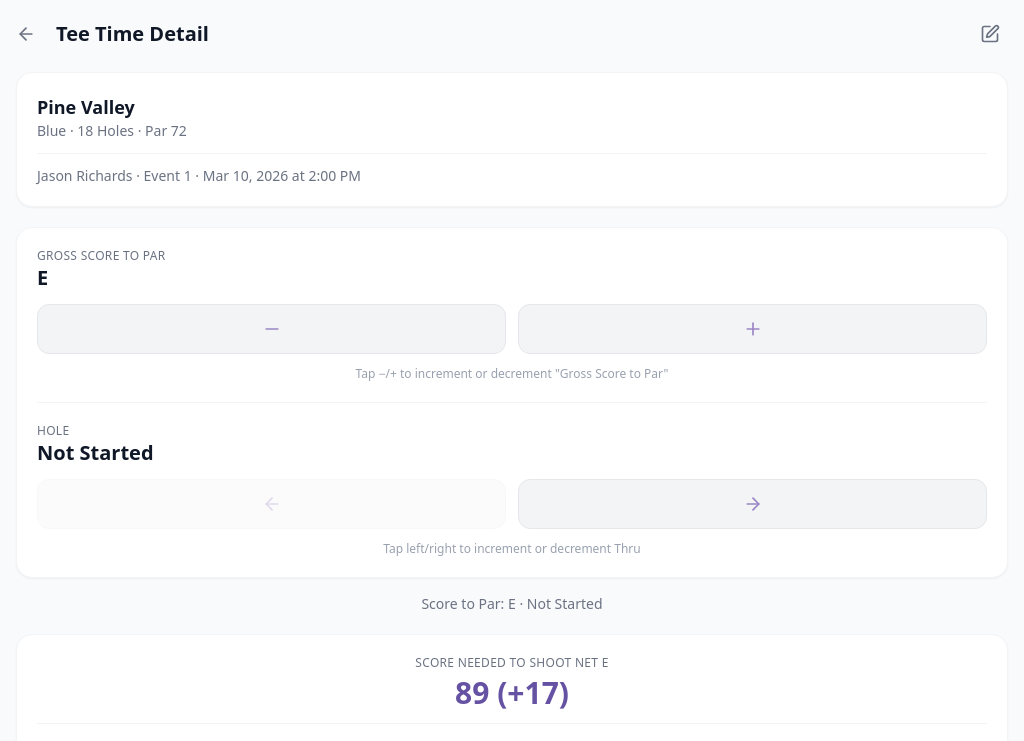
Test: Score Detail Page - Course/Tee Change › closes course picker via X button
Expected: the text "Pine Valley" is shown, [37,95,135,119]
Step 1. Click the 2nd button → point(990, 34), box [972,16,1008,52]
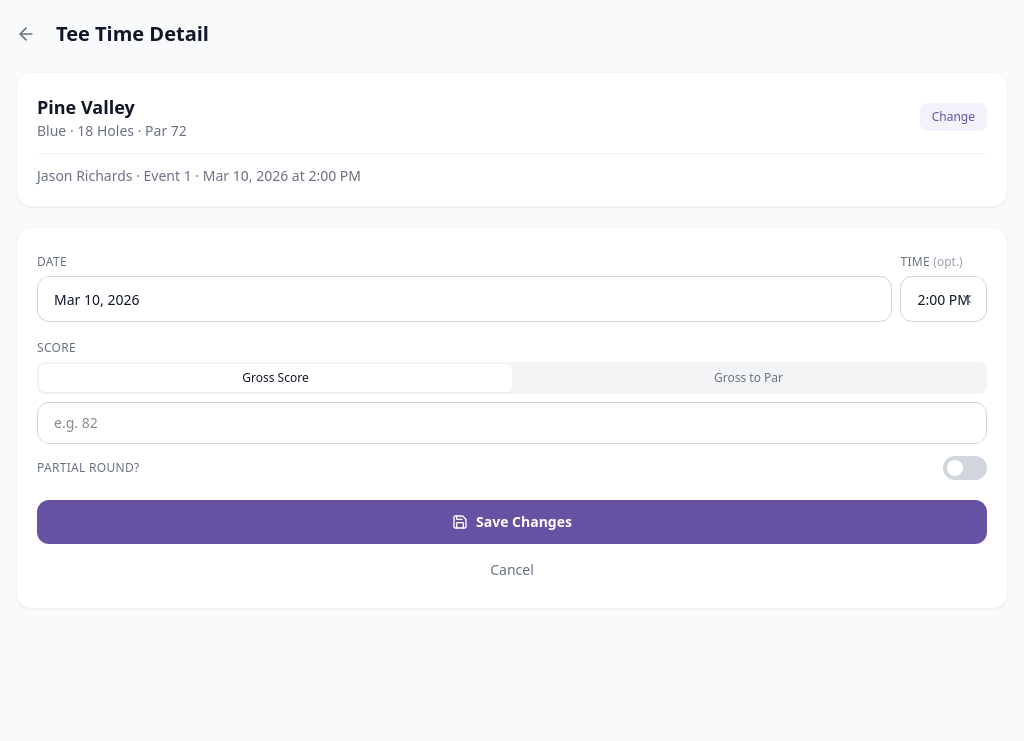
Step 2. Click the button "Change" → point(953, 117), box [920,103,987,131]
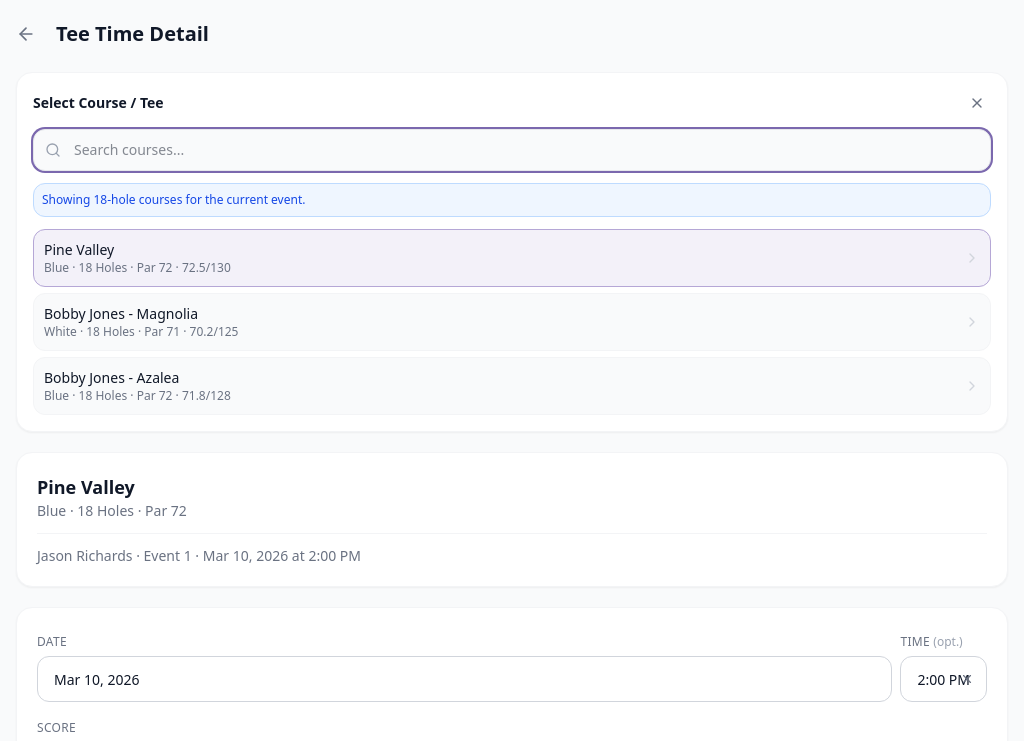
Now the heading "Select Course / Tee" is shown, box [33,93,164,113]
Step 3. Click the button without text in the row of "Select Course / Tee" → point(977, 103), box [963,89,991,117]
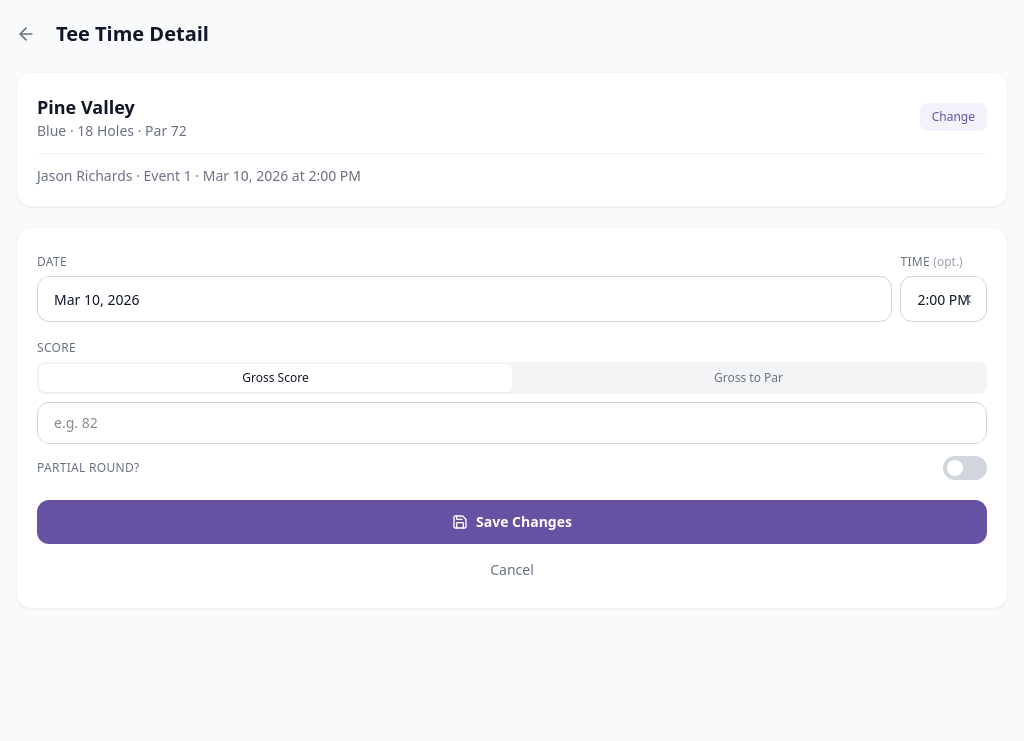
Now the heading "Select Course / Tee" is gone
